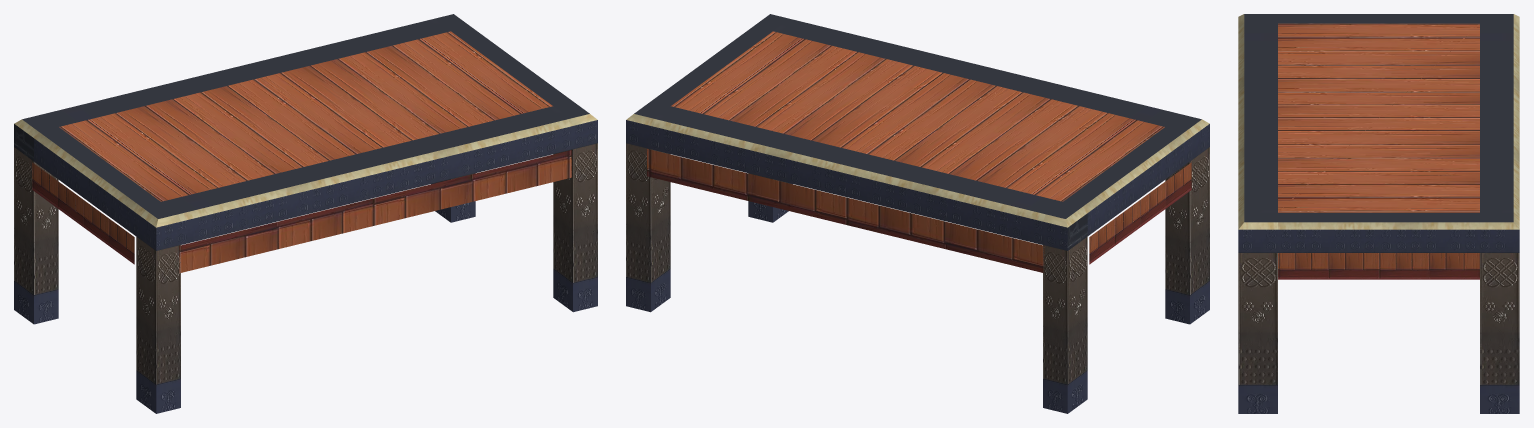
The model's file is pm-table-01.glb.
The picture shows the model from 3 angles, left to right: view 1: azimuth 30°, elevation 25°; view 2: azimuth 150°, elevation 25°; view 3: azimuth 270°, elevation 25°; orthographic projection.
Parts seen in each view (by area): view 1: Table01; view 2: Table01; view 3: Table01.
Part boxes in pixels (x1,y1,x2,y2): Table01: [14, 14, 597, 413]; Table01: [626, 14, 1209, 413]; Table01: [1238, 14, 1519, 413].
Size of the model in its own units: 1.91 by 0.7883 by 1.06.
Materials: 4 (4 with a texture image).
